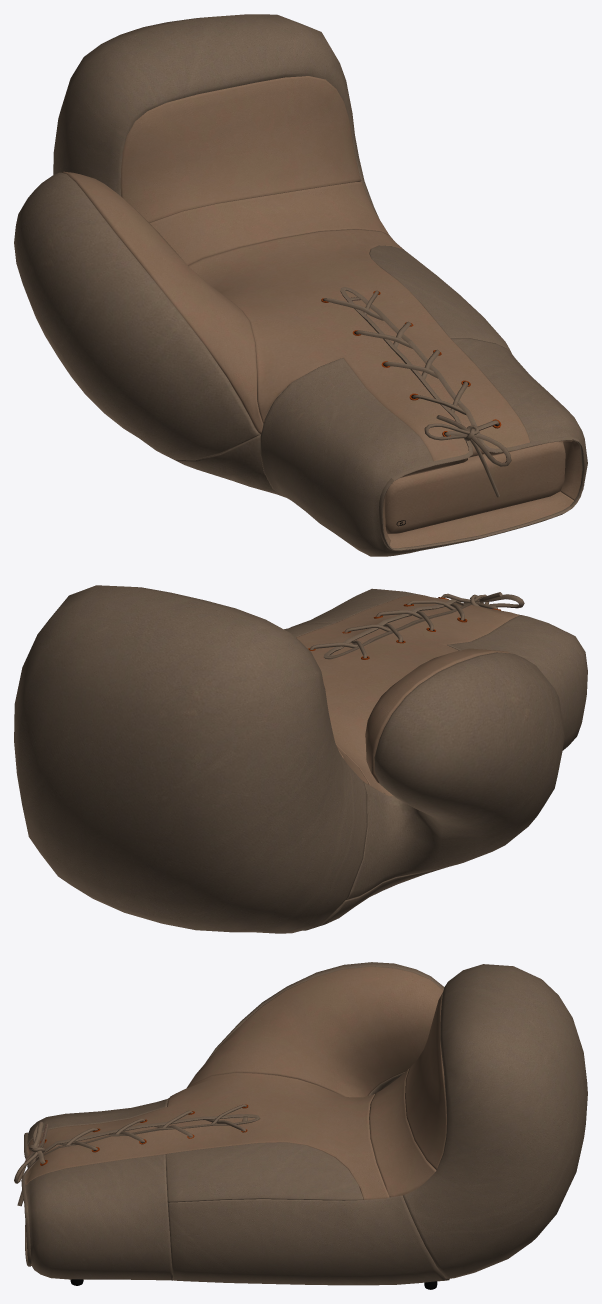
3 views of the same model, one above another, from view 1: azimuth 30°, elevation 25°; view 2: azimuth 150°, elevation 25°; view 3: azimuth 270°, elevation 25° (orthographic). The views are drawn at different scales.
Visible parts, largest first — view 1: _Defintion (×7), _Defintion1 (×8); view 2: _Defintion (×6), _Defintion1 (×3); view 3: _Defintion (×8), _Defintion1 (×5).
Boxes of the visible parts, bbox=[...] form: _Defintion (×7): bbox=[14, 14, 587, 556]; _Defintion1 (×8): bbox=[62, 76, 582, 548]; _Defintion (×6): bbox=[14, 585, 587, 933]; _Defintion1 (×3): bbox=[296, 594, 519, 796]; _Defintion (×8): bbox=[14, 962, 587, 1285]; _Defintion1 (×5): bbox=[25, 966, 446, 1199].
Size of the model in its own units: 42.8 by 66.53 by 33.15.
